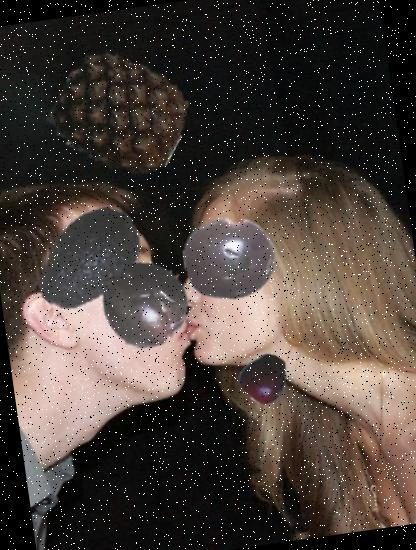Apple: (236, 348, 294, 406)
Avocado: (24, 194, 156, 327)
Passion: (178, 206, 283, 312), (94, 253, 196, 354)
Pineapple: (49, 41, 195, 187)
